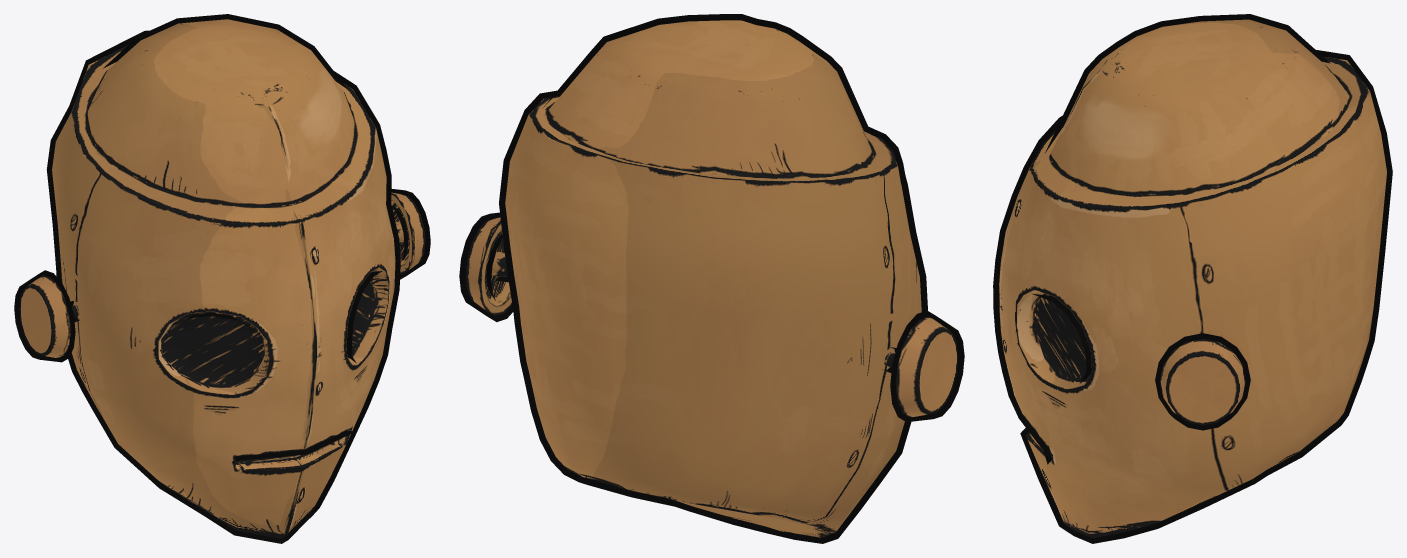
3 views of the same model, side by side, from view 1: azimuth 30°, elevation 25°; view 2: azimuth 150°, elevation 25°; view 3: azimuth 270°, elevation 25° (orthographic). The views are drawn at different scales.
Visible parts, largest first — view 1: Head_lowpoly, Outline; view 2: Head_lowpoly, Outline; view 3: Head_lowpoly, Outline.
Boxes of the visible parts, x1,y1,x2,y2 form: Head_lowpoly: [19, 19, 425, 538]; Outline: [14, 14, 430, 543]; Head_lowpoly: [465, 20, 958, 537]; Outline: [459, 14, 964, 543]; Head_lowpoly: [999, 19, 1386, 538]; Outline: [993, 14, 1392, 543].
Size of the model in its own units: 0.18 by 0.2049 by 0.1497.
2 materials, 1 textured.
